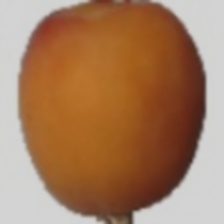apricot: (19, 13, 170, 209)
